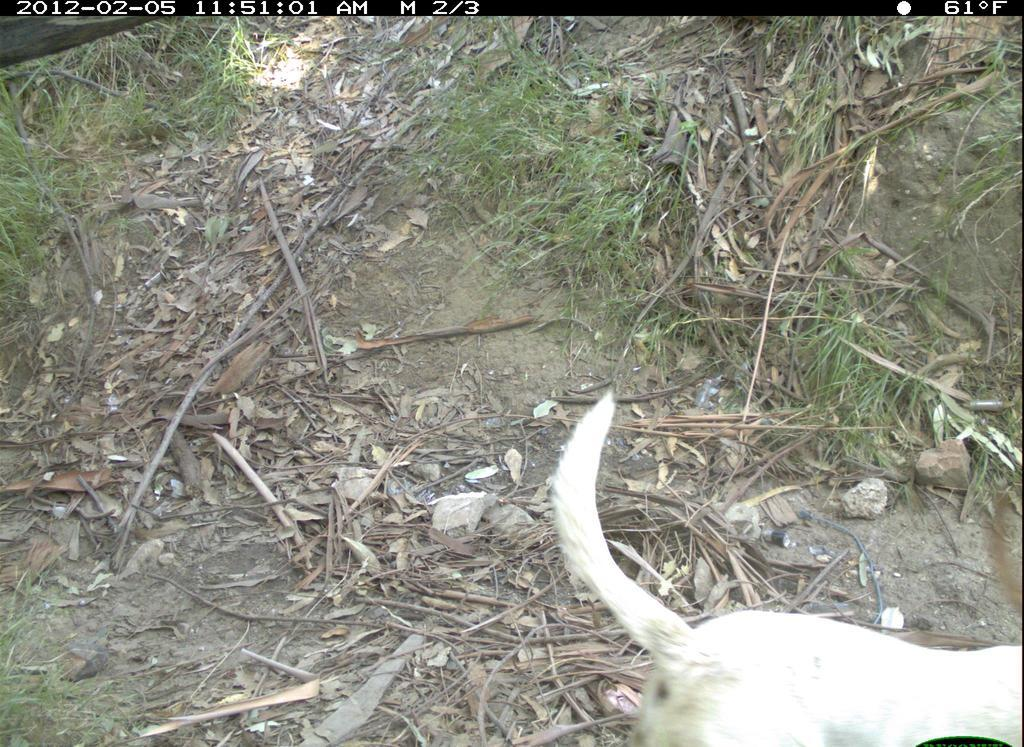dog: (529, 386, 1023, 747)
